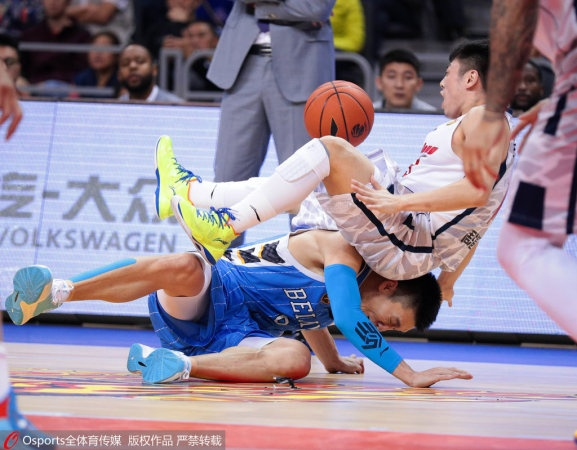falling: (44, 217, 472, 386)
